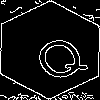Q: (25, 25, 91, 87)
